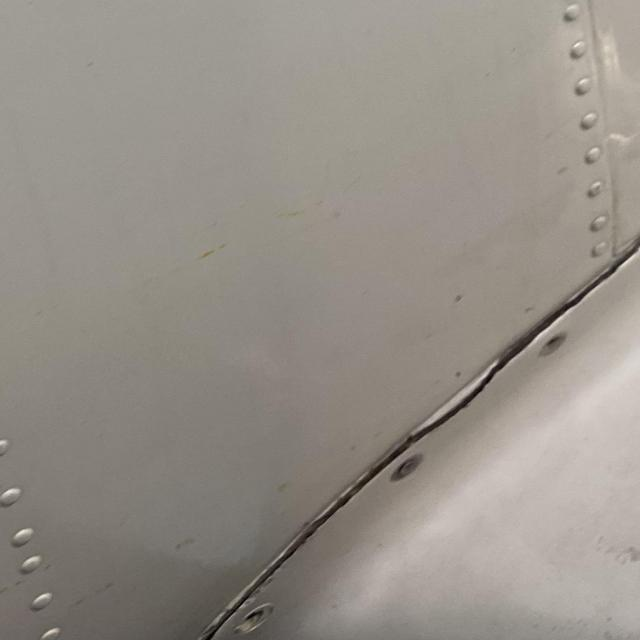Crack: (339, 376, 485, 506)
Missing-head: (230, 607, 272, 638), (538, 336, 568, 359)
